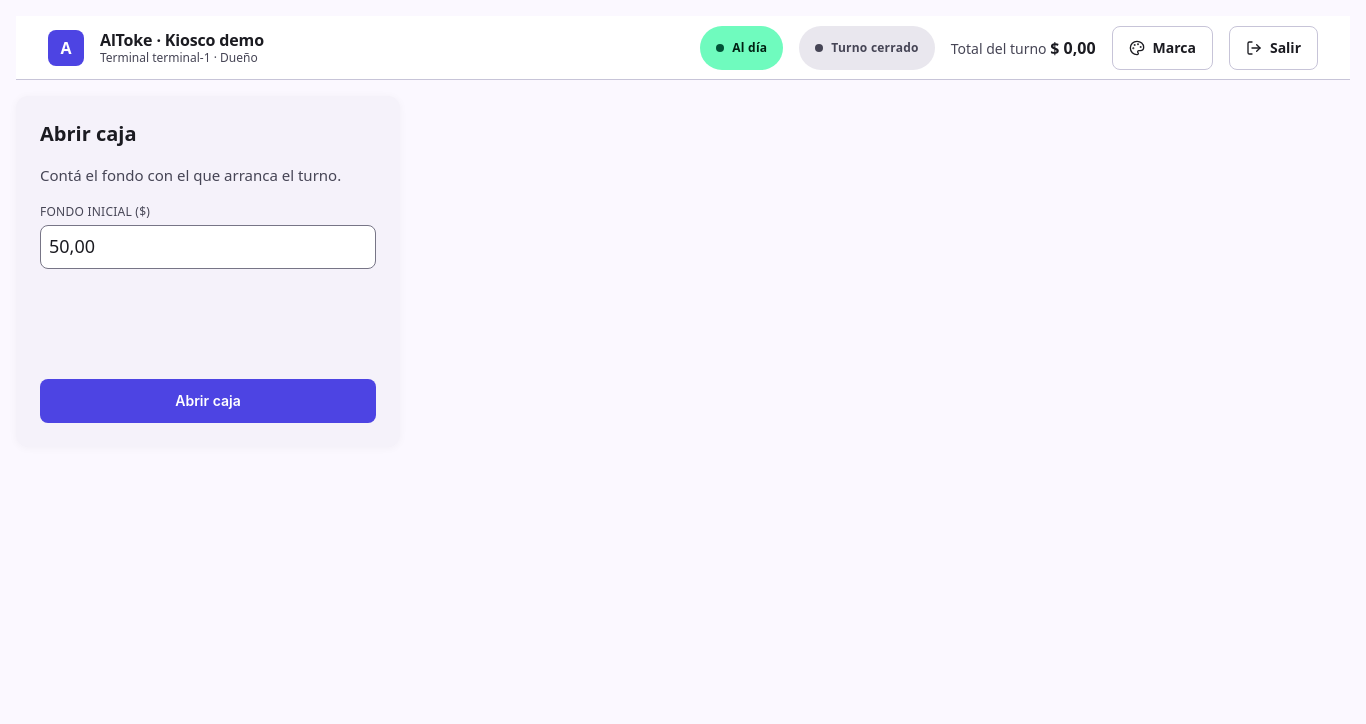
POS — marca del tenant › rechaza una marca oscura porque los contenedores del tema claro no la siguen
Click the button "Marca" at x=1162, y=48, box [1112,26,1213,70]
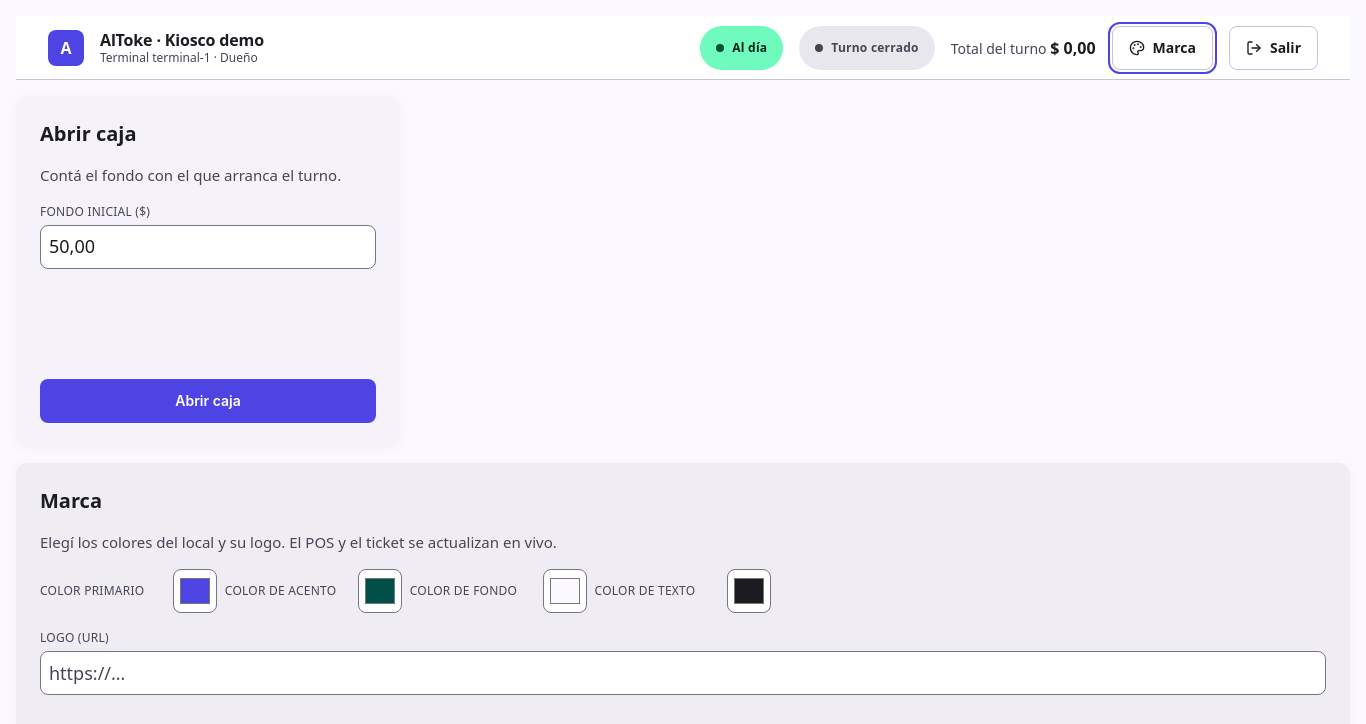
Type "#0b1326" into the colour field labelled "Color de fondo" at x=565, y=591, box [543,569,587,613]
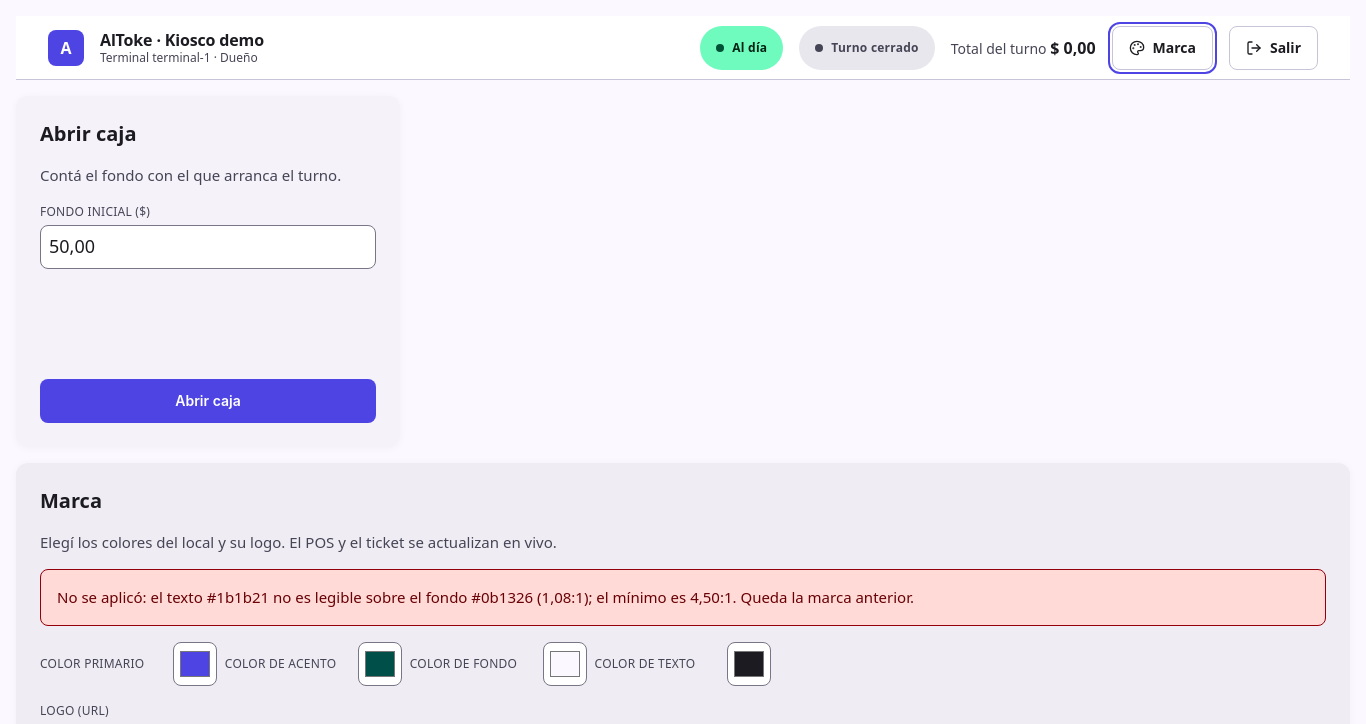
Type "#dae2fd" into the colour field labelled "Color de texto" at x=749, y=664, box [727,642,771,686]
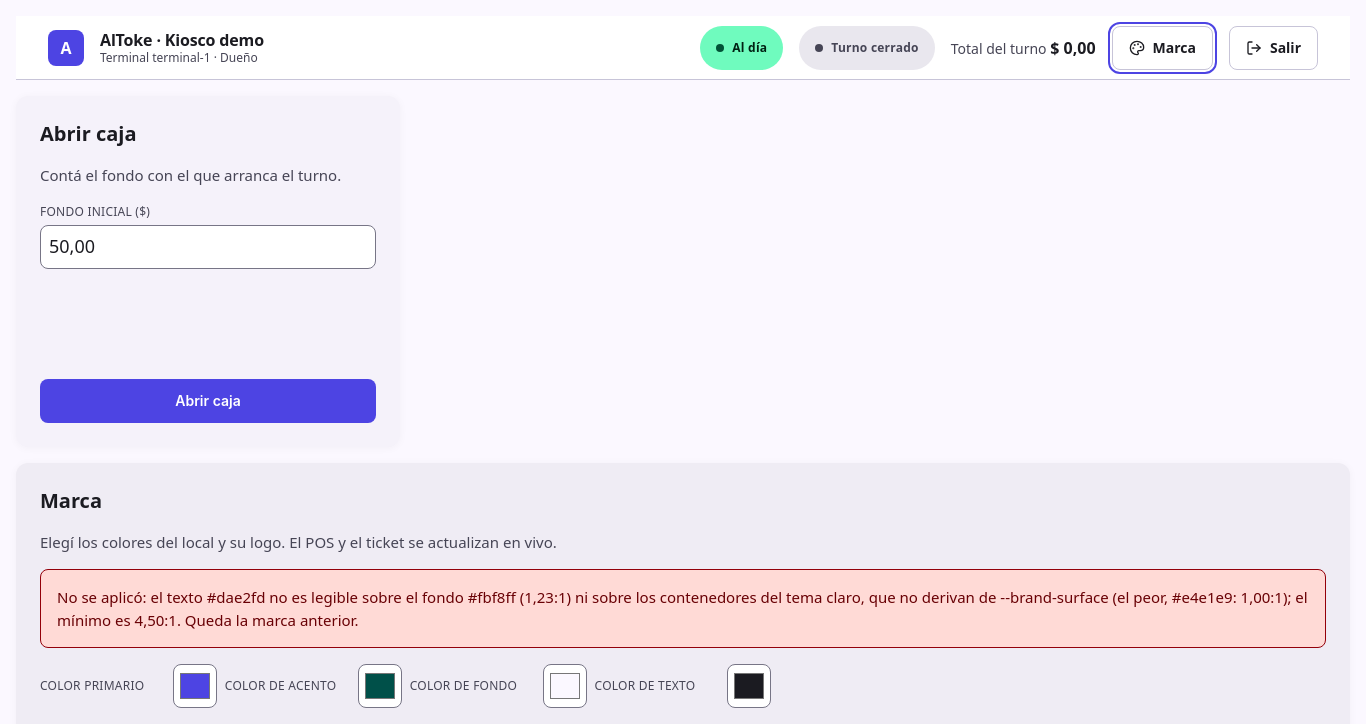
Check: the message shows "contenedores", box [57,587,1308,630]
Check: the message shows "--brand-surface", box [57,587,1308,630]
